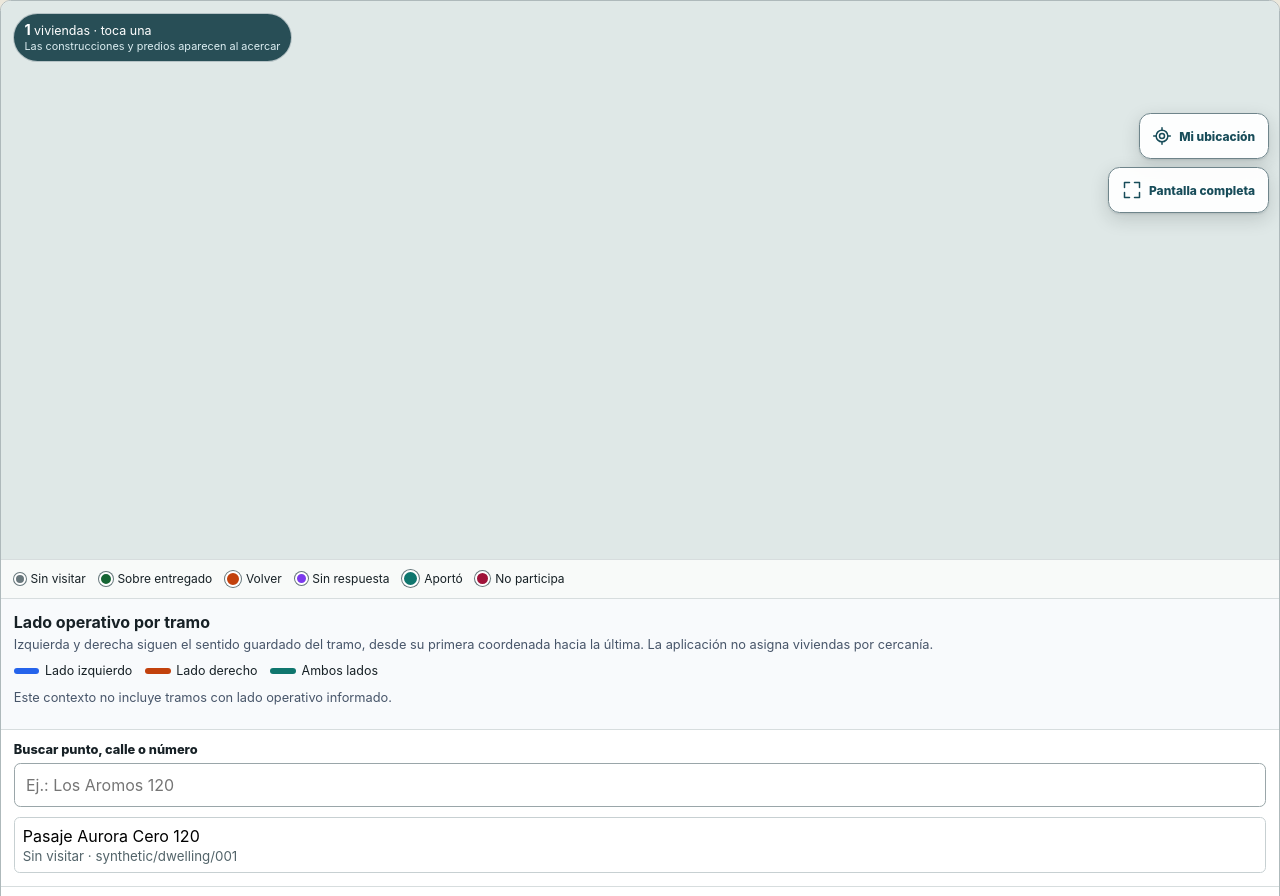
Scenario: FieldMap map interaction › activa el fallback cuando la promesa nativa resuelve sin entrar realmente
What coordinates should you click on to do the following:
click the button with aria-label "Abrir mapa en pantalla completa"
I would click on:
 (1188, 190)
Its box is x1=1108 y1=167 x2=1269 y2=213.
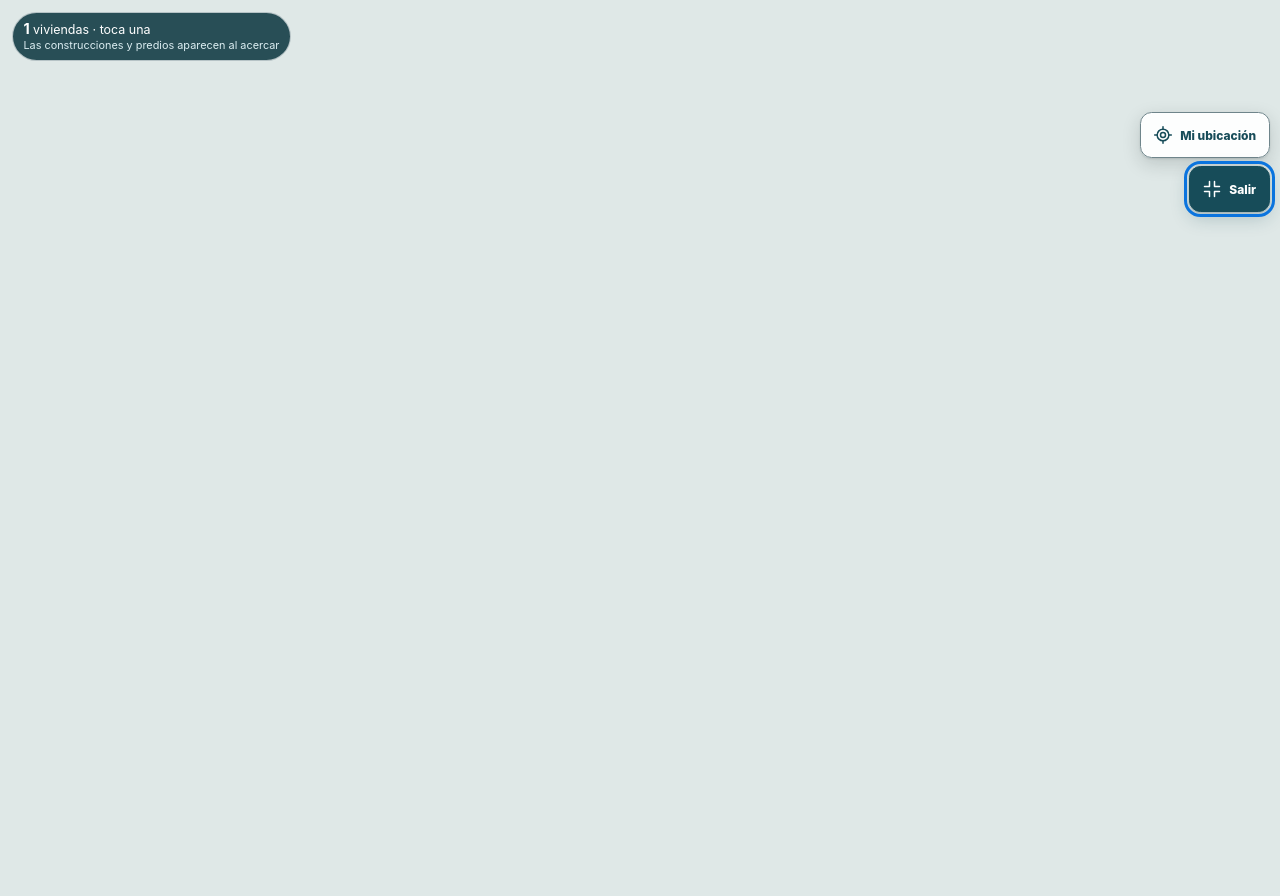
Result: the button with aria-label "Salir de pantalla completa" is shown at x1=1189 y1=166 x2=1270 y2=212
